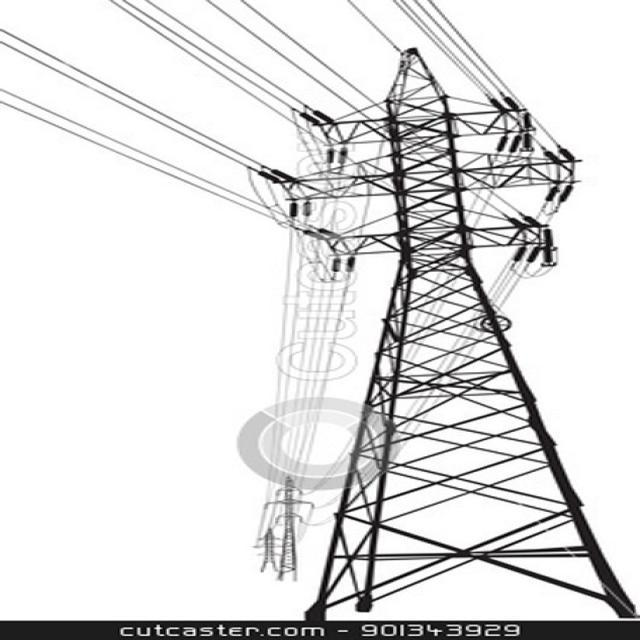non-critical vegetation: (258, 42, 620, 612)
